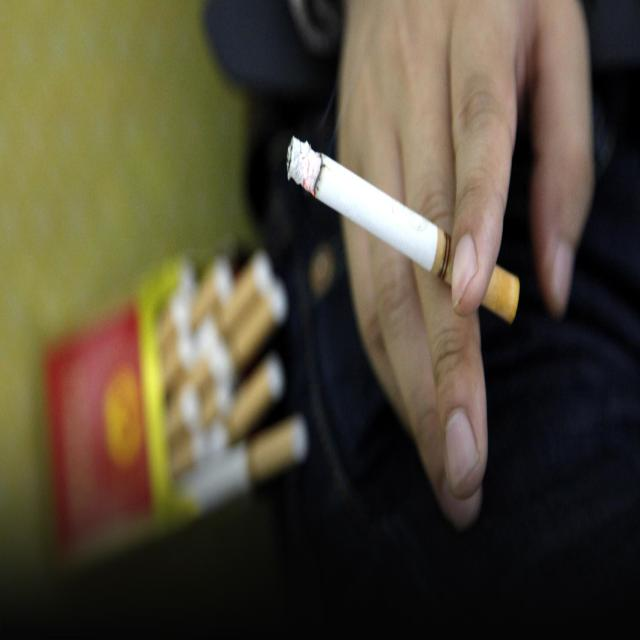cigarette: (286, 139, 451, 285)
